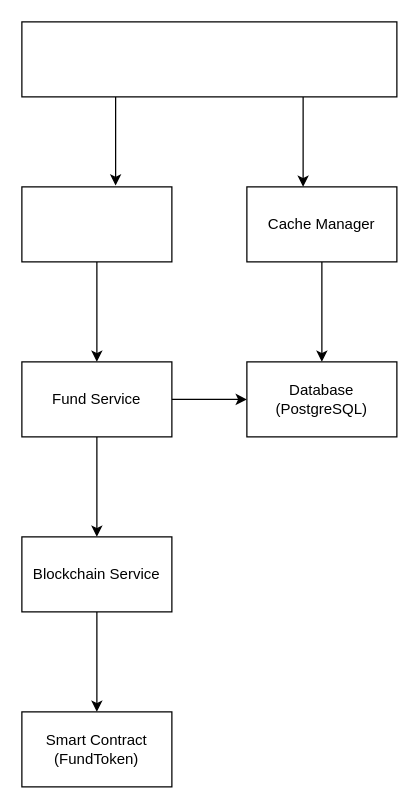
The diagram is 419 pixels wide and 809 high, and some of its shapes have lost their labels. The box of each missing label's shape, as (x1, y1, x2, y2) in pixels:
Express API Server: (21, 21, 397, 97)
Fund Controller: (21, 186, 172, 262)
